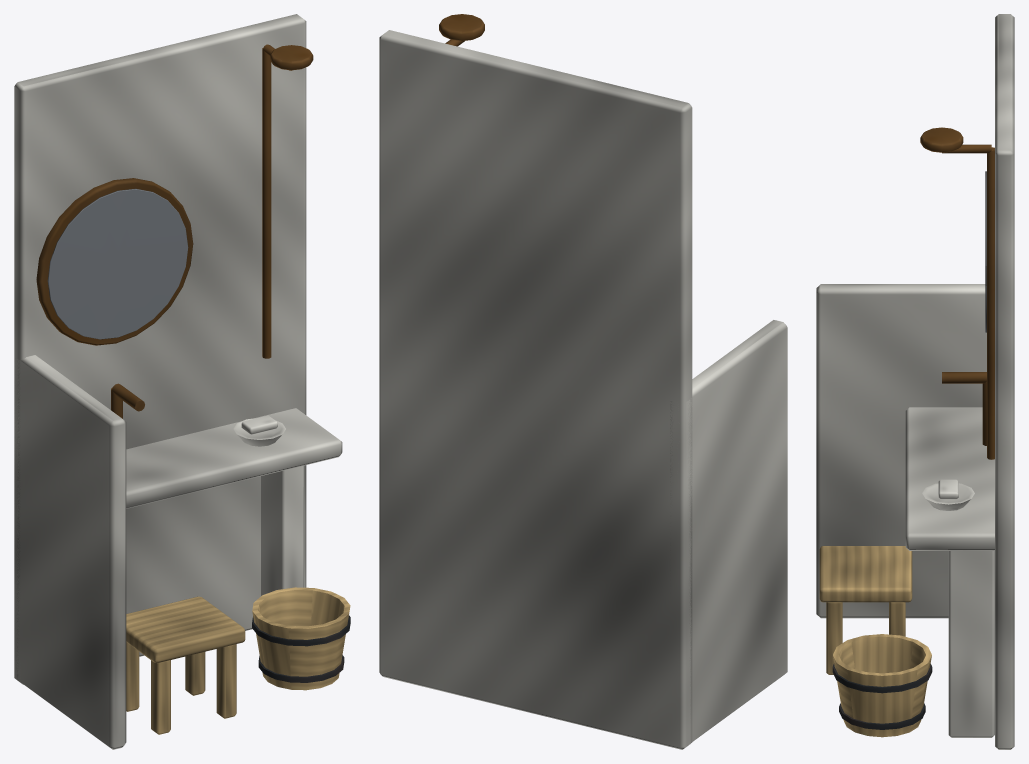
File: Furn_Bath_WashStation.fbx
The picture shows the model from 3 angles, left to right: view 1: azimuth 30°, elevation 25°; view 2: azimuth 150°, elevation 25°; view 3: azimuth 270°, elevation 25°; orthographic projection. The views are drawn at different scales.
Parts seen in each view (by area): view 1: Furn_Bath_WashStation; view 2: Furn_Bath_WashStation; view 3: Furn_Bath_WashStation.
Part boxes in pixels (x1,y1,x2,y2): Furn_Bath_WashStation: (14,14,350,749); Furn_Bath_WashStation: (379,14,787,749); Furn_Bath_WashStation: (816,14,1014,749).
Size of the model in its own units: 1 by 2 by 0.6.
4 materials, 4 textured.
